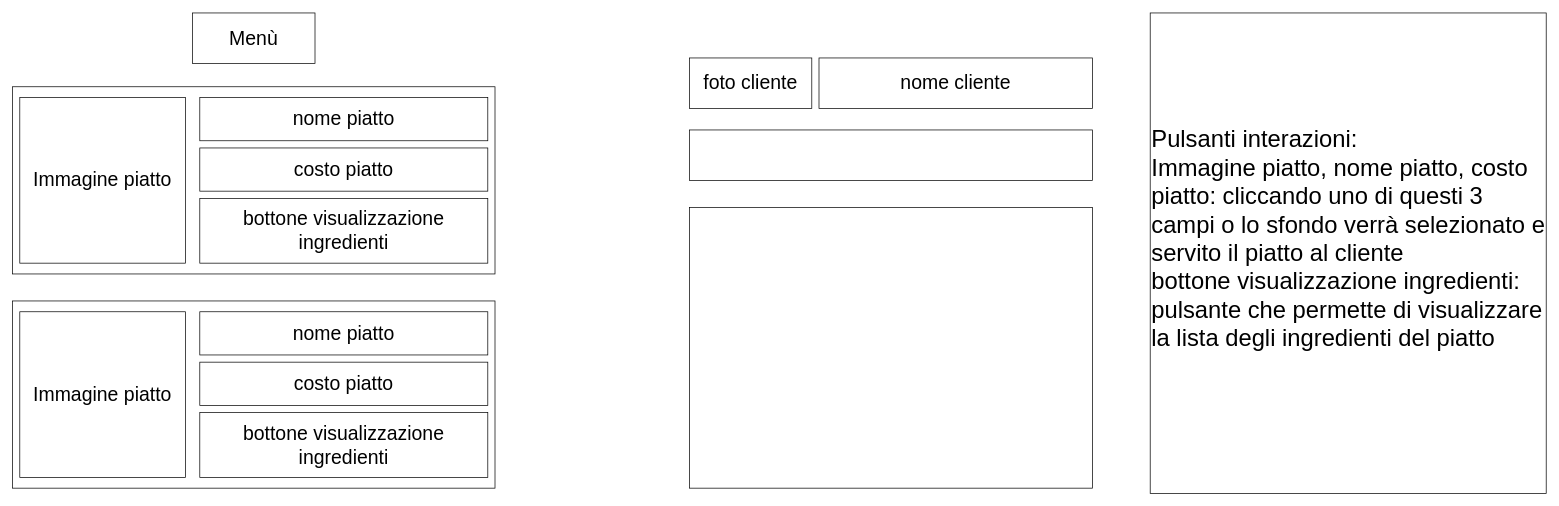
This 1559x506 diagram has some shape labels left out. Each missing label, with the centre of its shape:
"dieta cliente" belongs at [891,154].
"lista patologie cliente" belongs at [891,347].
